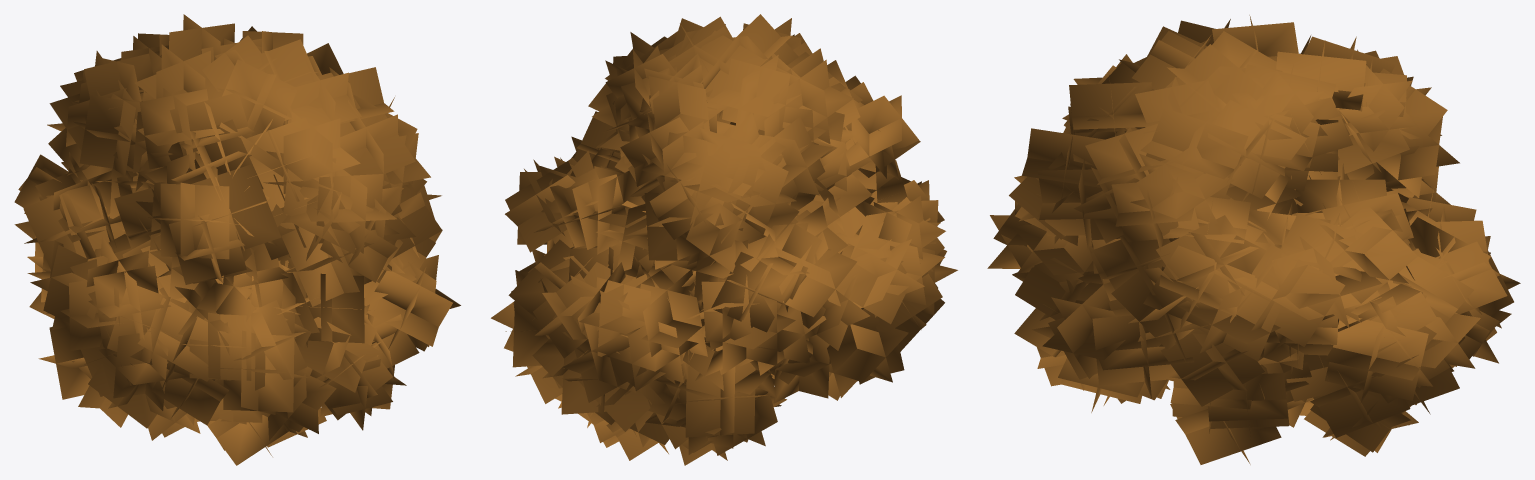
The model's file is Crown01.fbx.
3 renders of one model, left to right at view 1: azimuth 30°, elevation 25°; view 2: azimuth 150°, elevation 25°; view 3: azimuth 270°, elevation 25°, orthographic. The views are drawn at different scales.
Visible parts, largest first — view 1: Crown1_LOD0; view 2: Crown1_LOD0; view 3: Crown1_LOD0.
Boxes of the visible parts, left/top/right/bottom form: Crown1_LOD0: left=14, top=14, right=460, bottom=465; Crown1_LOD0: left=491, top=14, right=957, bottom=465; Crown1_LOD0: left=987, top=15, right=1520, bottom=464.
Size of what is drawn, in the model's own units: 550 by 523 by 643.
